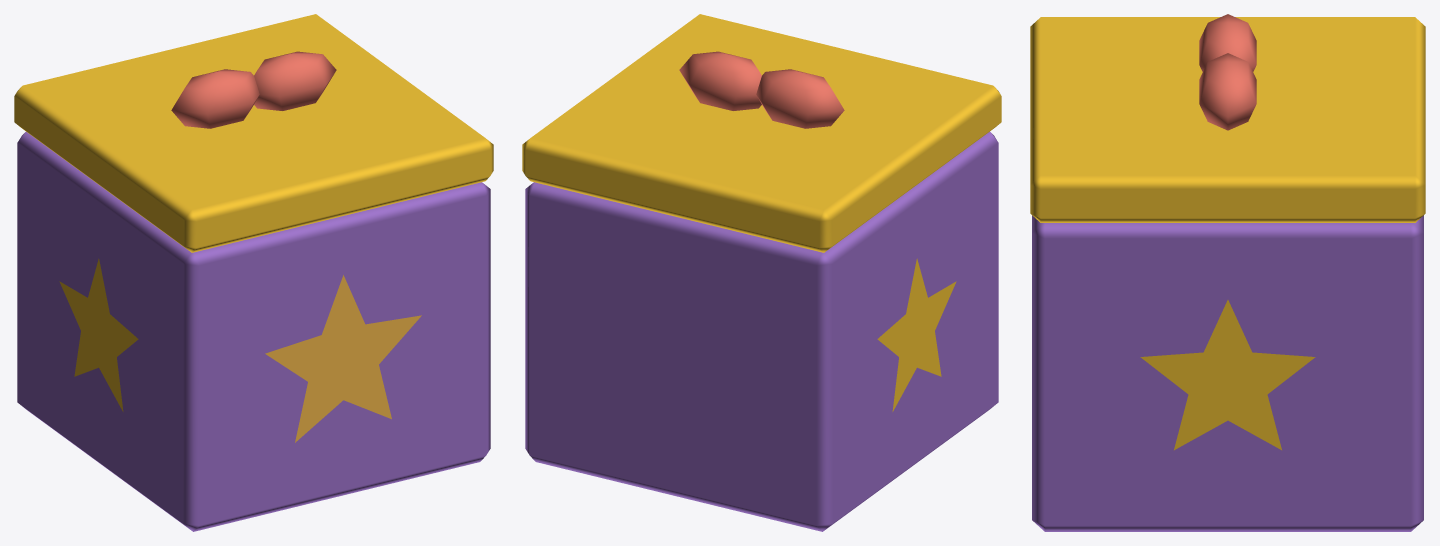
File: CM_Event_SurpriseCrate.fbx
3 views of the same model, side by side, from view 1: azimuth 30°, elevation 25°; view 2: azimuth 150°, elevation 25°; view 3: azimuth 270°, elevation 25° (orthographic). The views are drawn at different scales.
Parts seen in each view (by area): view 1: Body, Lid; view 2: Body, Lid; view 3: Body, Lid.
Part boxes in pixels (x1,y1,x2,y2): Body: (17, 132, 490, 531); Lid: (14, 14, 493, 252); Body: (525, 132, 998, 531); Lid: (522, 14, 1001, 252); Body: (1032, 215, 1423, 531); Lid: (1030, 14, 1425, 222).
Size of the model in its own units: 3 by 3 by 3.45.
Materials: 1 (1 with a texture image).
